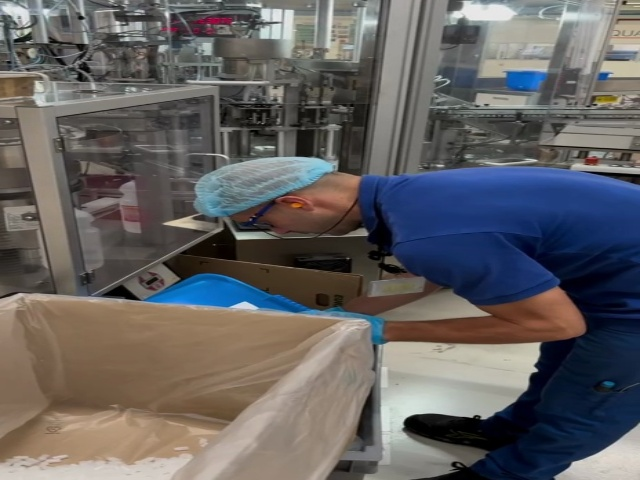Earplug: (272, 193, 319, 216)
Hairnet: (194, 154, 323, 216)
No_Helmet: (196, 154, 337, 216)
No_Vest: (366, 171, 640, 314)
Person: (193, 155, 640, 480)
Safety_Goggles: (239, 187, 292, 235)
